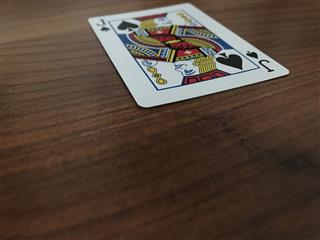JackOfSpades: (87, 2, 289, 108)
